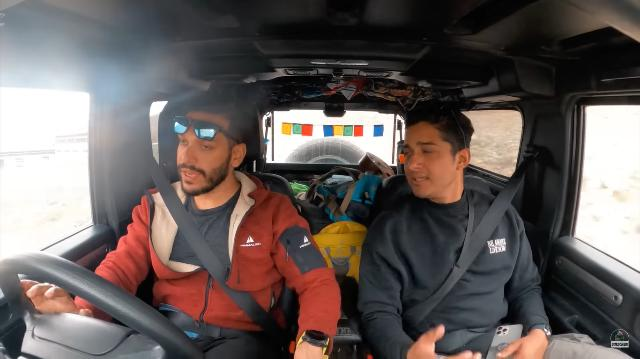seatbelt: (367, 192, 541, 359), (146, 158, 286, 346)
